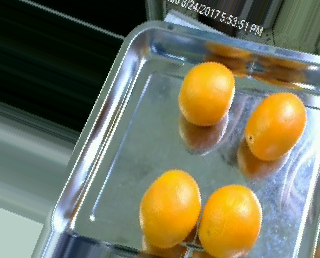Orange: (139, 168, 201, 248), (198, 183, 263, 258), (244, 91, 307, 160), (177, 60, 234, 125)
